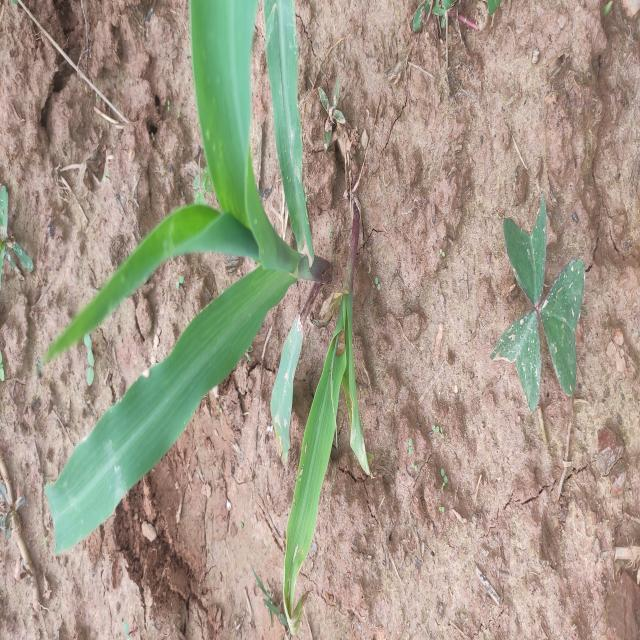maize: (19, 0, 367, 628)
weed: (489, 195, 594, 438), (303, 54, 349, 170), (403, 0, 504, 39)
